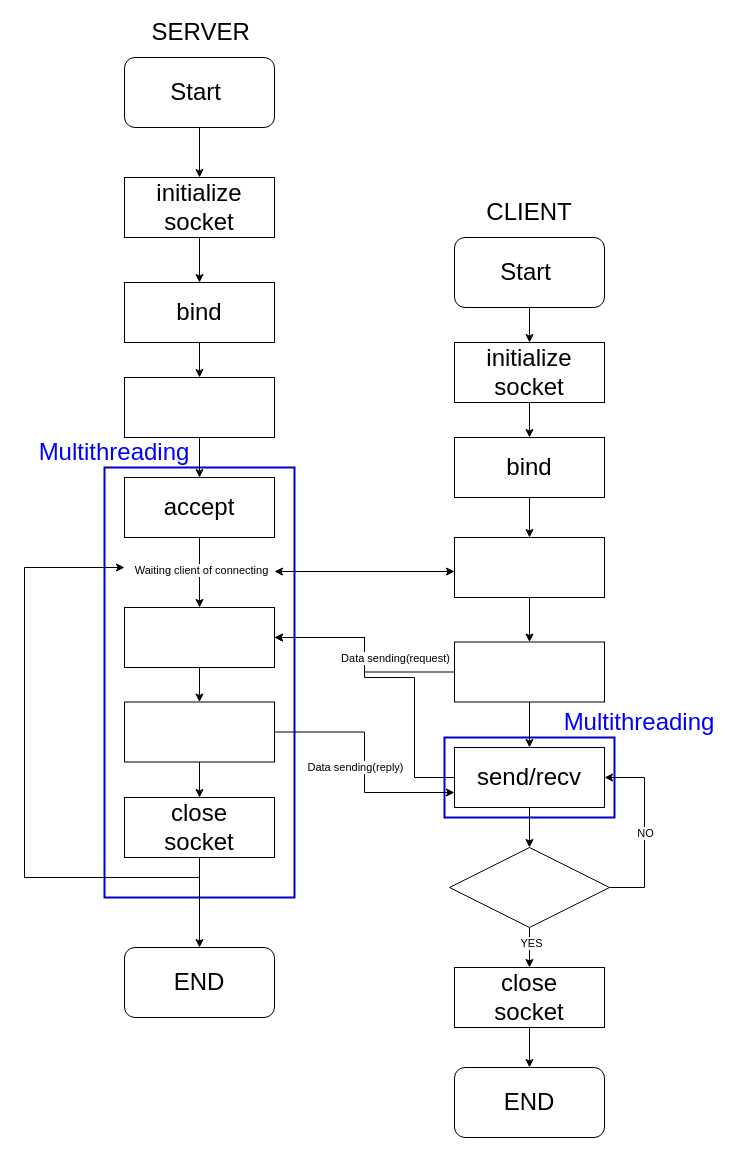
This 732x1155 diagram has some shape labels left out. The centre of each missing label's shape, as x and y in pixels:
connect: pixel 529 567
input username: pixel 529 671
listen: pixel 199 407
quit or not: pixel 529 887
recv: pixel 199 637
send: pixel 199 731
